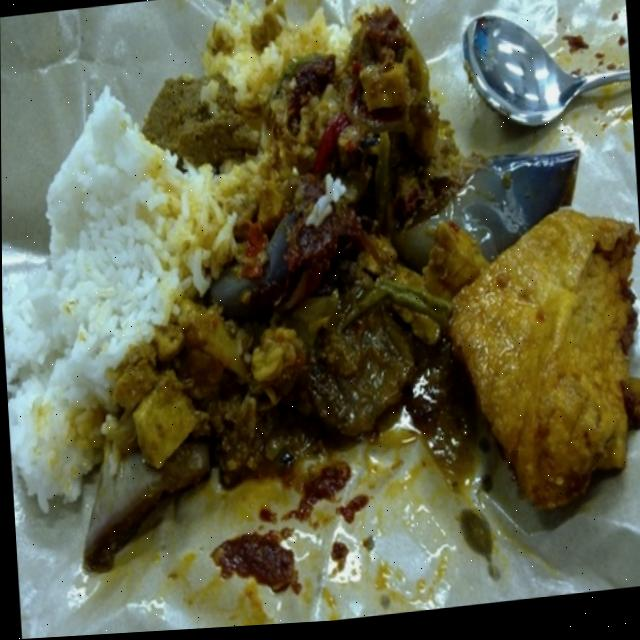米饭主食: (0, 0, 637, 640)
